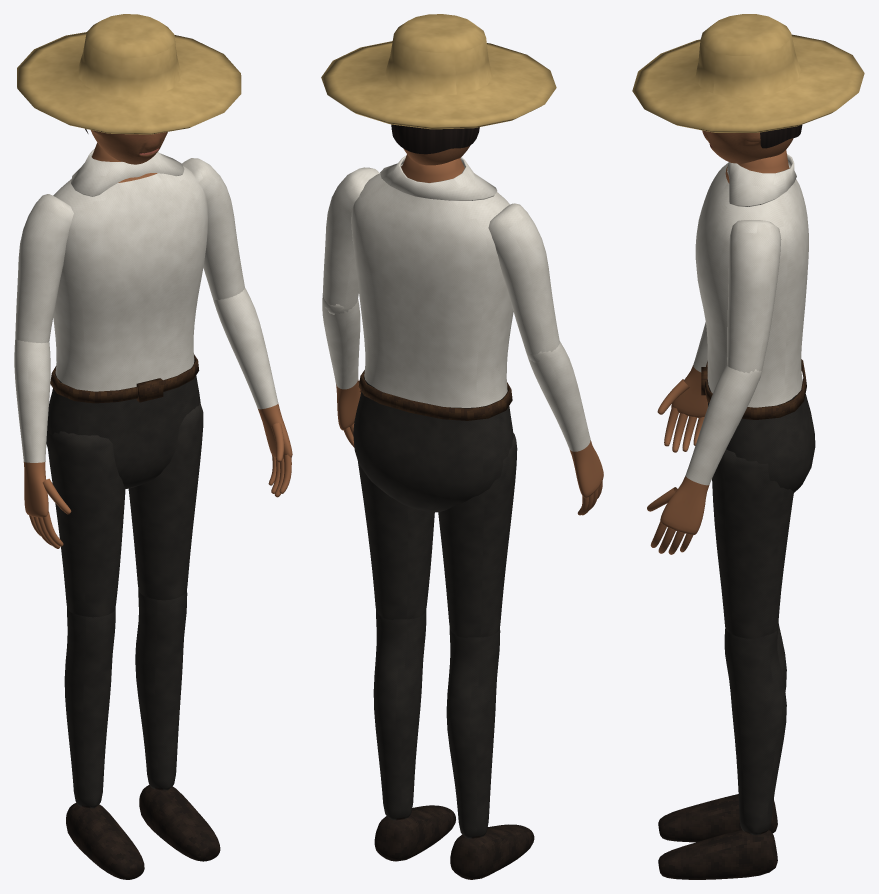
File: persona_hombre_a.obj
The picture shows the model from 3 angles, left to right: view 1: azimuth 30°, elevation 25°; view 2: azimuth 150°, elevation 25°; view 3: azimuth 270°, elevation 25°; orthographic projection. The views are drawn at different scales.
Visible parts, largest first — view 1: Torso, Sombrero, PiernaIzq, PiernaDer, MusloDer, MusloIzq, BrazoDer, AntebrazoDer, AntebrazoIzq, BrazoIzq, Cuello, Cinturon (+1 smaller); view 2: Torso, Sombrero, PiernaDer, PiernaIzq, MusloDer, MusloIzq, BrazoDer, AntebrazoDer, BrazoIzq, AntebrazoIzq, Cuello, Cinturon (+2 smaller); view 3: Sombrero, Torso, PiernaIzq, MusloIzq, BrazoIzq, AntebrazoIzq, PiernaDer, AntebrazoDer, Cuello, Cabeza, Cinturon, Pelo.
Part boxes in pixels (x1,y1,x2,y2): Torso: [46, 142, 208, 488]; Sombrero: [17, 14, 241, 134]; PiernaIzq: [135, 589, 220, 861]; PiernaDer: [64, 607, 144, 879]; MusloDer: [47, 431, 125, 617]; MusloIzq: [128, 402, 203, 600]; BrazoDer: [15, 194, 73, 343]; AntebrazoDer: [14, 339, 71, 548]; AntebrazoIzq: [213, 288, 292, 497]; BrazoIzq: [182, 158, 244, 299]; Cuello: [71, 149, 184, 196]; Cinturon: [50, 354, 199, 403]; Torso: [351, 154, 513, 512]; Sombrero: [321, 14, 556, 129]; PiernaDer: [446, 627, 534, 879]; PiernaIzq: [373, 610, 455, 861]; MusloDer: [438, 433, 517, 637]; MusloIzq: [358, 462, 434, 619]; BrazoDer: [488, 203, 559, 362]; AntebrazoDer: [528, 341, 603, 515]; BrazoIzq: [322, 167, 379, 314]; AntebrazoIzq: [322, 295, 361, 447]; Cuello: [380, 155, 497, 200]; Cinturon: [358, 370, 512, 420]; Sombrero: [632, 14, 864, 132]; Torso: [695, 150, 815, 492]; PiernaIzq: [658, 628, 786, 879]; MusloIzq: [712, 449, 793, 638]; BrazoIzq: [727, 220, 781, 380]; AntebrazoIzq: [647, 365, 762, 554]; PiernaDer: [658, 622, 786, 842]; AntebrazoDer: [657, 322, 707, 452]; Cuello: [727, 154, 796, 206]; Cabeza: [702, 130, 793, 164]; Cinturon: [701, 359, 806, 419]; Pelo: [760, 125, 802, 148].
Bounding box in the file's own units: 0.5822 × 1.81 × 0.4583.
13 materials, 13 textured.
